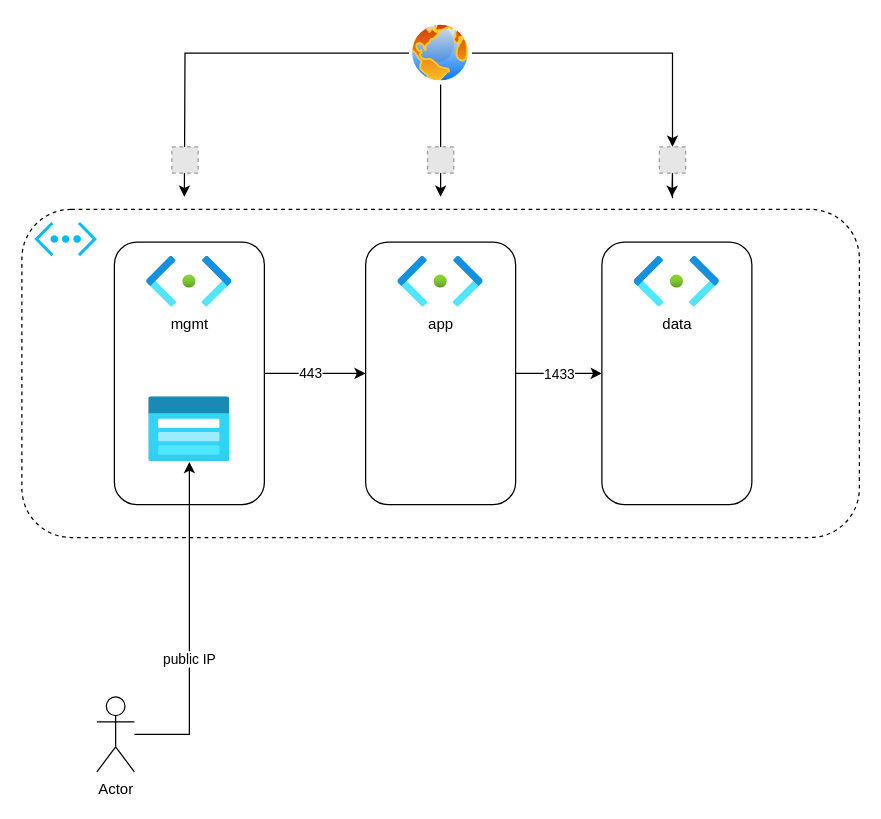
This 881x819 diagram has some shape labels left out. Grey dashed boxes stand in for pictures. Each missing label, with the centre of its shape:
"Internet" goes at [440,52].
"vnet" goes at [65,238].
